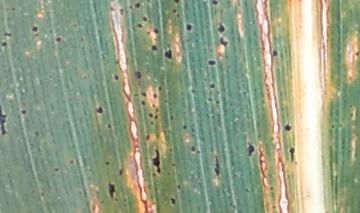tarspot: (152, 148, 161, 174), (1, 106, 7, 136), (213, 154, 220, 177), (107, 182, 116, 199), (163, 47, 173, 60), (246, 142, 255, 156), (219, 36, 228, 47), (217, 22, 226, 33), (289, 146, 295, 162), (134, 70, 142, 80), (31, 24, 39, 32), (271, 48, 278, 57), (284, 122, 291, 131), (3, 31, 13, 37), (207, 59, 217, 65), (186, 23, 193, 31), (169, 197, 176, 205), (145, 133, 151, 142), (55, 36, 62, 43), (33, 130, 40, 137), (96, 107, 103, 114), (151, 45, 158, 52), (148, 112, 155, 119), (119, 8, 125, 16), (142, 14, 148, 22), (10, 6, 17, 12), (72, 22, 78, 29), (137, 22, 143, 29), (153, 27, 159, 34), (141, 91, 147, 98), (190, 145, 196, 152), (135, 1, 140, 9), (2, 41, 8, 47), (21, 109, 27, 115), (190, 88, 196, 94), (172, 8, 178, 14), (195, 148, 201, 154), (207, 96, 213, 102), (209, 83, 215, 89), (107, 123, 112, 130), (114, 74, 119, 81), (141, 99, 146, 106), (154, 113, 159, 120), (169, 114, 174, 121), (149, 119, 154, 126), (119, 168, 123, 176), (79, 37, 85, 42), (105, 160, 110, 166), (146, 30, 151, 36), (168, 147, 173, 153), (182, 124, 187, 130), (215, 99, 220, 105), (330, 123, 335, 129), (338, 123, 344, 128), (355, 51, 360, 57), (271, 204, 276, 210), (100, 199, 105, 205), (30, 188, 36, 193), (70, 158, 74, 165), (158, 85, 162, 92), (177, 183, 181, 190), (54, 167, 59, 172), (110, 6, 115, 11), (115, 60, 120, 65), (129, 4, 134, 9), (153, 93, 158, 98), (134, 93, 139, 98), (171, 162, 176, 167), (269, 186, 274, 191), (245, 188, 250, 193), (166, 171, 171, 176), (162, 129, 167, 134), (155, 107, 159, 113), (173, 1, 181, 4), (213, 1, 219, 5), (350, 112, 354, 118), (115, 197, 119, 203), (35, 32, 39, 37), (82, 76, 87, 80), (154, 37, 158, 42), (167, 43, 171, 48), (152, 103, 156, 108), (177, 13, 181, 18), (185, 38, 190, 42), (349, 104, 353, 109), (79, 190, 82, 194)
